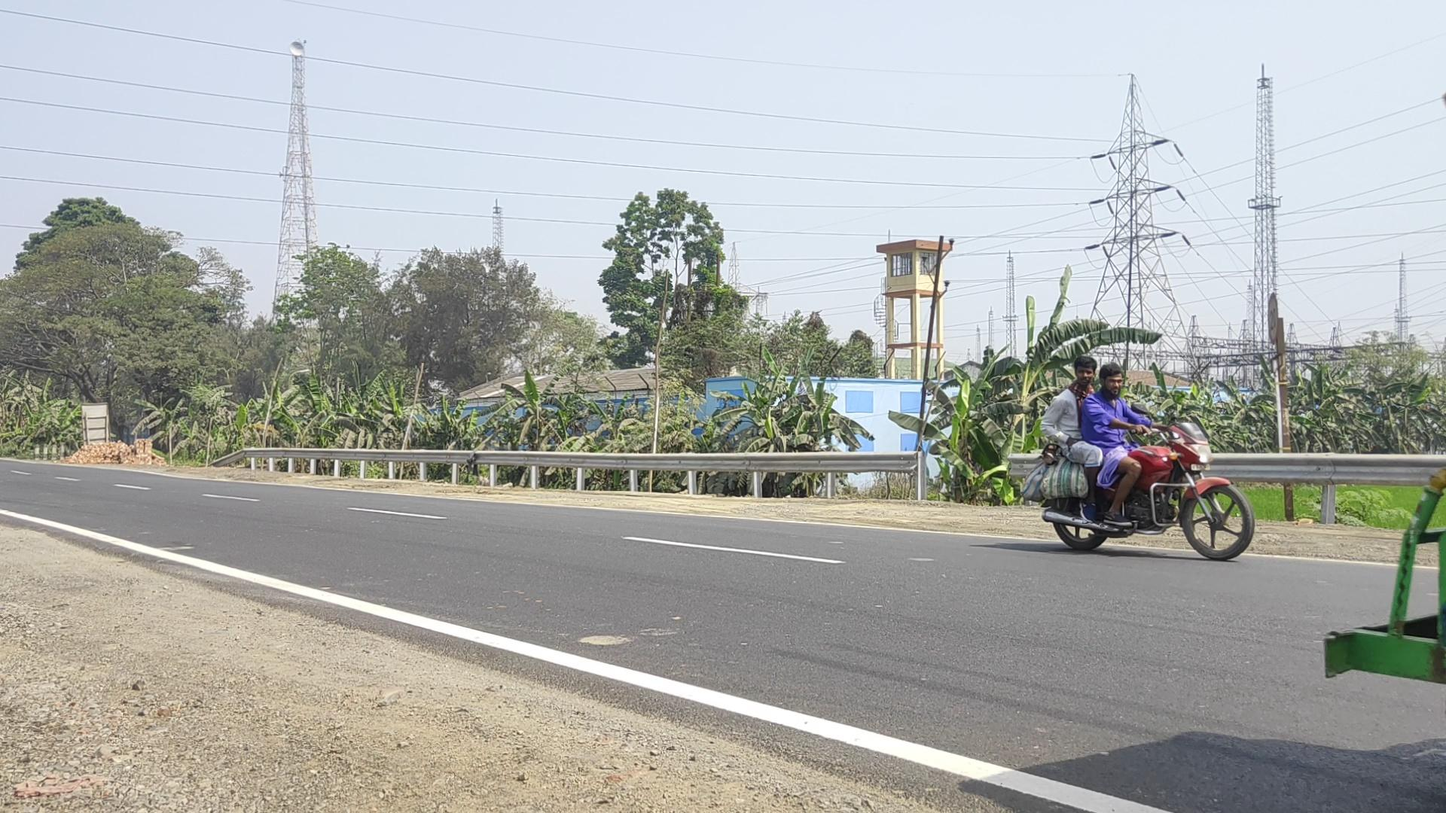bike: (1023, 357, 1255, 561)
